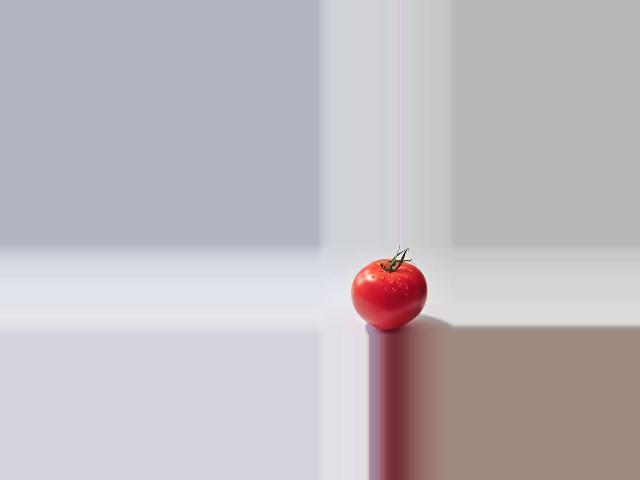tomato: (350, 260, 426, 330)
